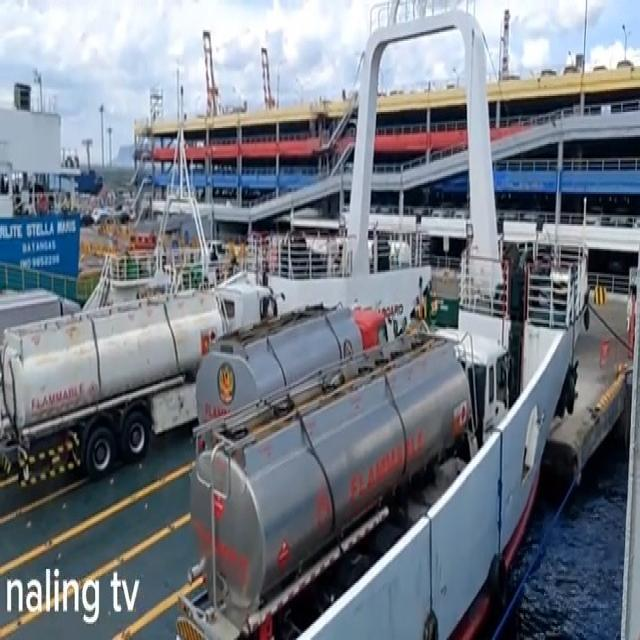truck: (172, 326, 508, 639), (0, 278, 279, 491), (188, 297, 388, 453)
